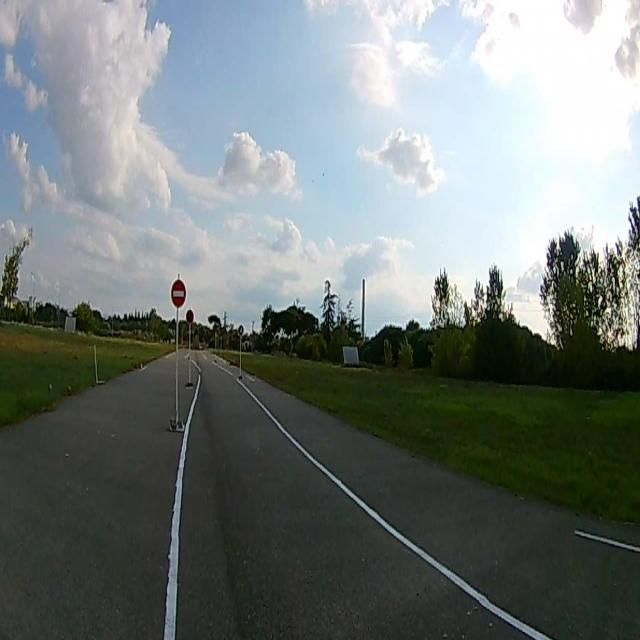girisyok: (171, 280, 186, 308)
